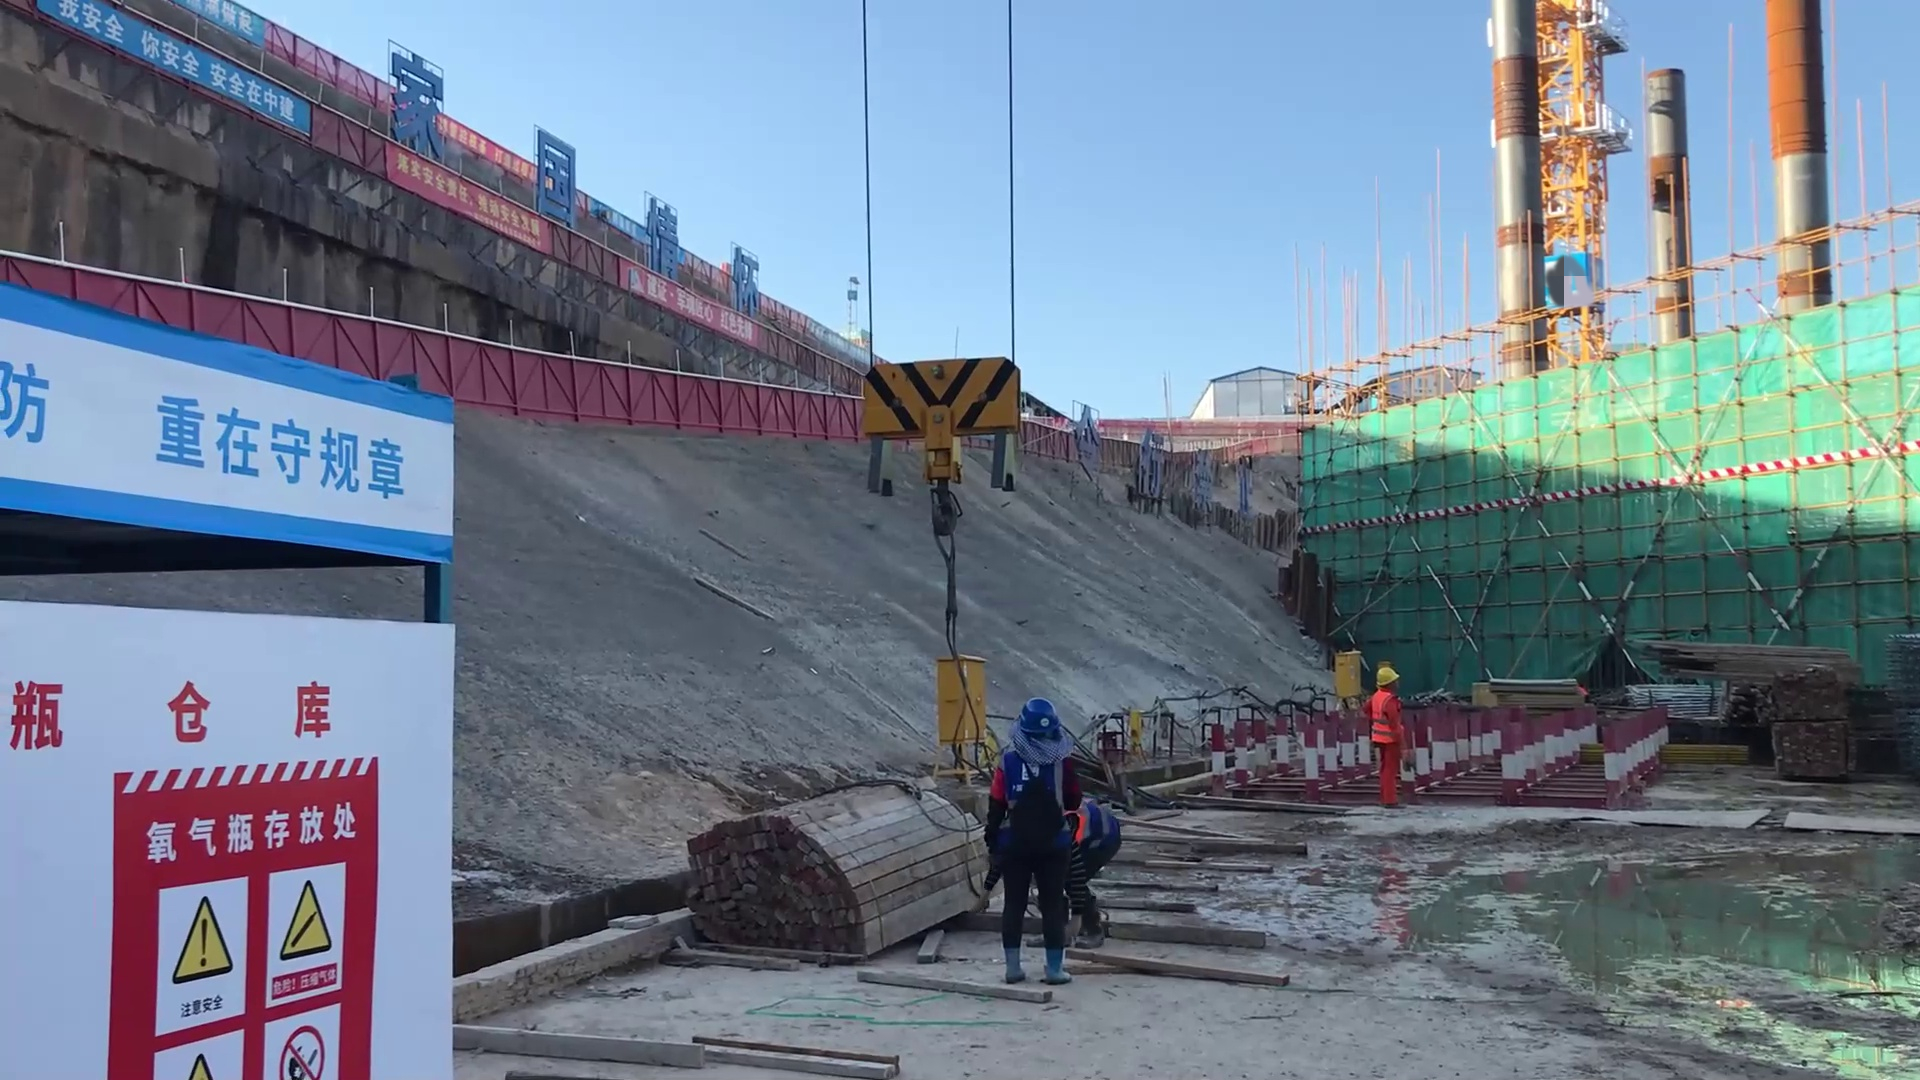ebox: (918, 634, 999, 779), (1333, 649, 1364, 699)
fence: (459, 337, 852, 452)
helmet: (991, 686, 1057, 754), (1366, 659, 1405, 707)
hook: (848, 355, 1030, 498)
person: (982, 698, 1075, 985), (1368, 666, 1416, 816)
slogan: (1, 299, 452, 552), (84, 752, 351, 1080), (53, 1, 321, 156), (358, 141, 540, 261)
vest: (1072, 802, 1116, 842), (1370, 691, 1398, 746)
wood: (656, 768, 978, 992), (1632, 622, 1863, 716)
